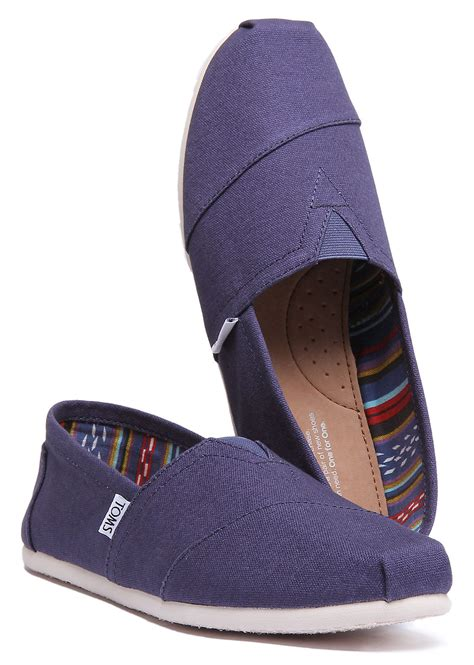nylon: (24, 18, 451, 604)
